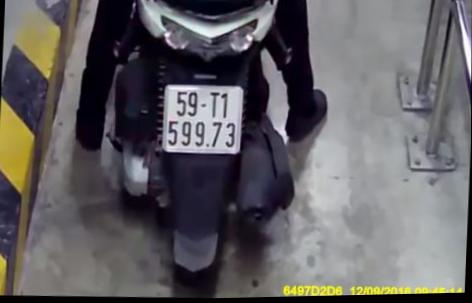LP: (161, 82, 245, 159)
